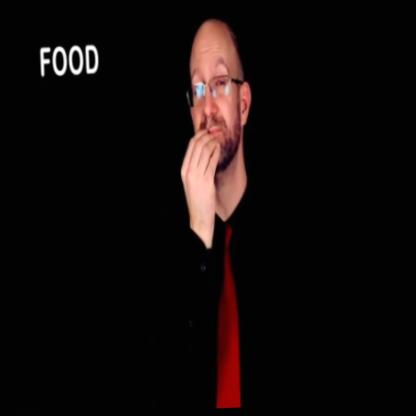Food: (148, 13, 301, 412)
